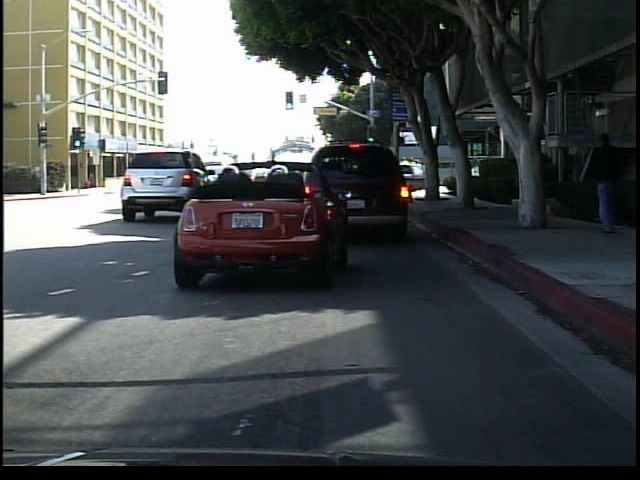person: (582, 132, 631, 239), (514, 144, 543, 225)
